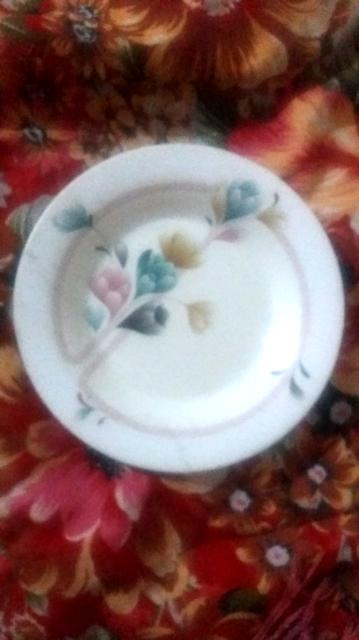Plate: (13, 143, 344, 474)
